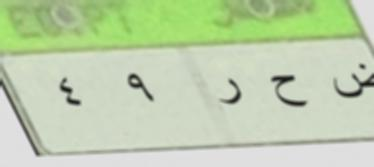4: (51, 73, 86, 115)
7aa: (264, 72, 310, 112)
9: (125, 69, 158, 108)
daad: (326, 63, 374, 102)
raa: (213, 73, 244, 112)
